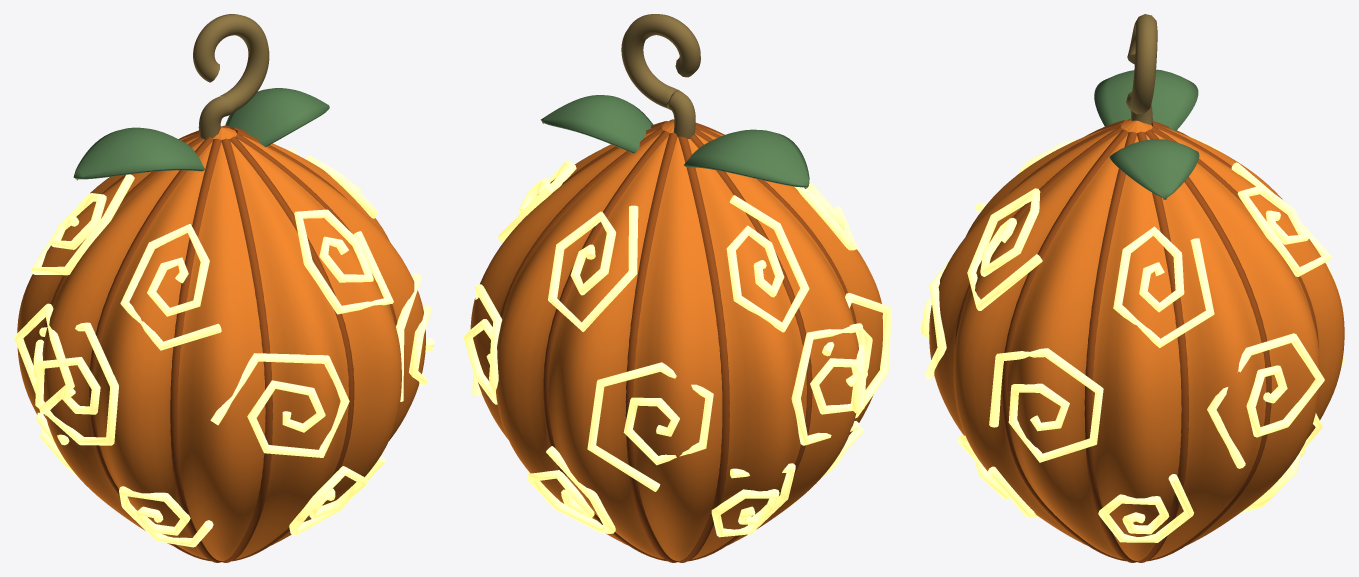
The model's file is goro_goro_fruit.glb.
3 renders of one model, left to right at view 1: azimuth 30°, elevation 25°; view 2: azimuth 150°, elevation 25°; view 3: azimuth 270°, elevation 25°, orthographic.
Parts seen in each view (by area): view 1: goro_goro_fruit; view 2: goro_goro_fruit; view 3: goro_goro_fruit.
Part boxes in pixels (x1,y1,x2,y2): goro_goro_fruit: (14, 14, 434, 562); goro_goro_fruit: (463, 14, 891, 562); goro_goro_fruit: (920, 14, 1344, 562).
Bounding box in the file's own units: 0.806 × 1.15 × 0.8067.
